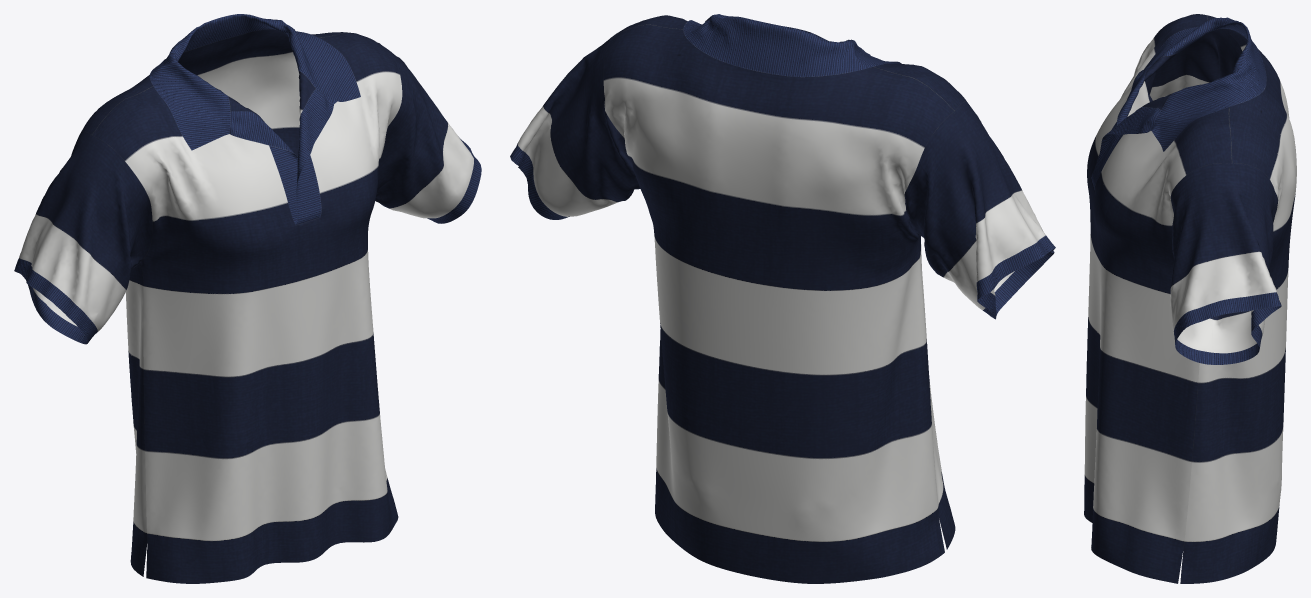
Rendered from shirt.fbx.
The picture shows the model from 3 angles, left to right: view 1: azimuth 30°, elevation 25°; view 2: azimuth 150°, elevation 25°; view 3: azimuth 270°, elevation 25°; orthographic projection. The views are drawn at different scales.
Visible parts, largest first — view 1: AM_102_035_003; view 2: AM_102_035_003; view 3: AM_102_035_003.
Part boxes in pixels (bbox=[...]): AM_102_035_003: bbox=[14, 14, 481, 583]; AM_102_035_003: bbox=[510, 14, 1055, 583]; AM_102_035_003: bbox=[1084, 14, 1296, 583].
Size of the model in its own units: 71.86 by 75.6 by 29.33.
1 material, 1 textured.
